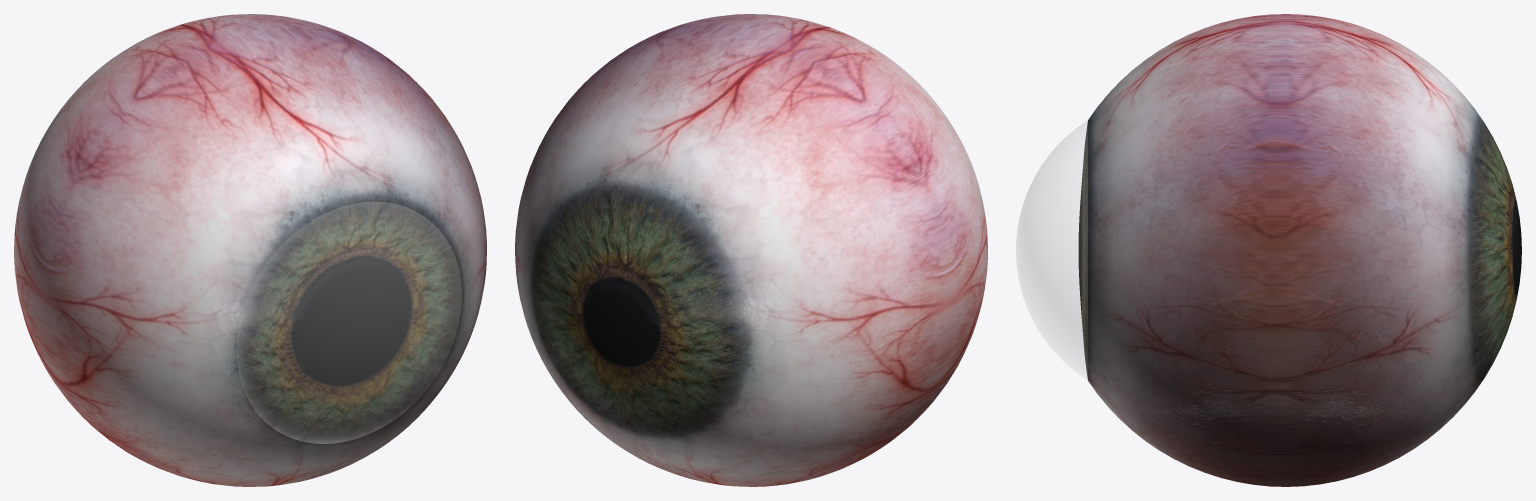
The model's file is RealisticEye.glb.
The picture shows the model from 3 angles, left to right: view 1: azimuth 30°, elevation 25°; view 2: azimuth 150°, elevation 25°; view 3: azimuth 270°, elevation 25°; orthographic projection.
Parts seen in each view (by area): view 1: Eye, Cornea; view 2: Eye; view 3: Eye, Cornea.
Part boxes in pixels (x1,y1,x2,y2): Eye: (14, 14, 486, 486); Cornea: (236, 202, 461, 443); Eye: (515, 14, 987, 486); Eye: (1078, 14, 1521, 486); Cornea: (1016, 121, 1087, 379).
Size of the model in its own units: 1.99 by 1.99 by 2.13.
Materials: 3 (2 with a texture image).
